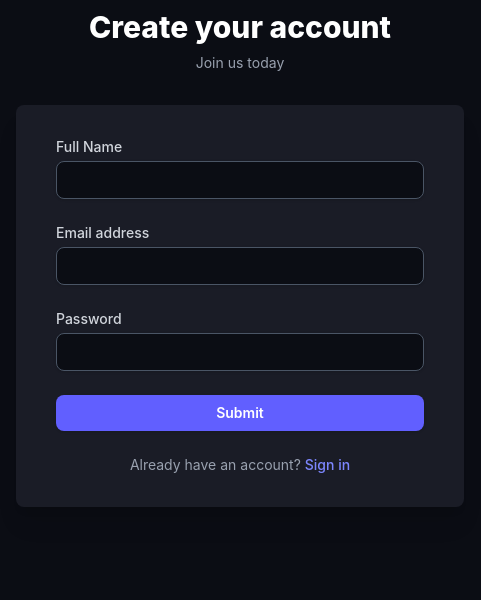
Test: UserRegistrationForm Component › displays error message when registration fails
In the field labelled "Full Name": (240, 180) [56,161,424,199], type "Bob Smith"
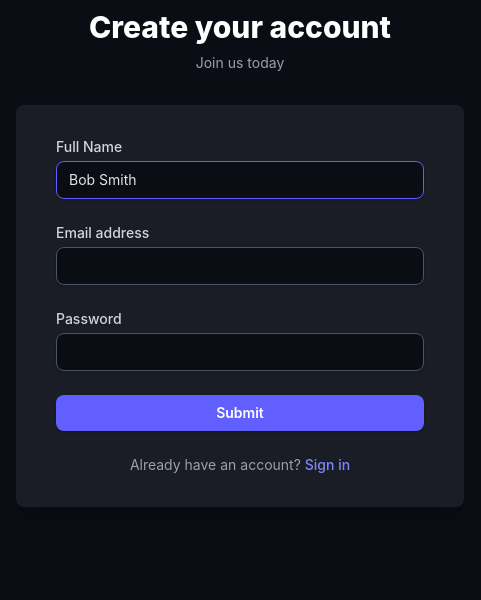
In the field labelled "Email address": (240, 266) [56,247,424,285], type "bob@example.com"
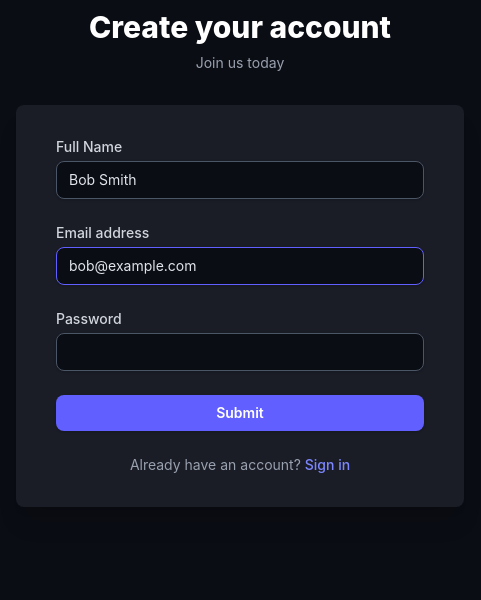
In the password field labelled "Password": (240, 352) [56,333,424,371], type "Password123!"
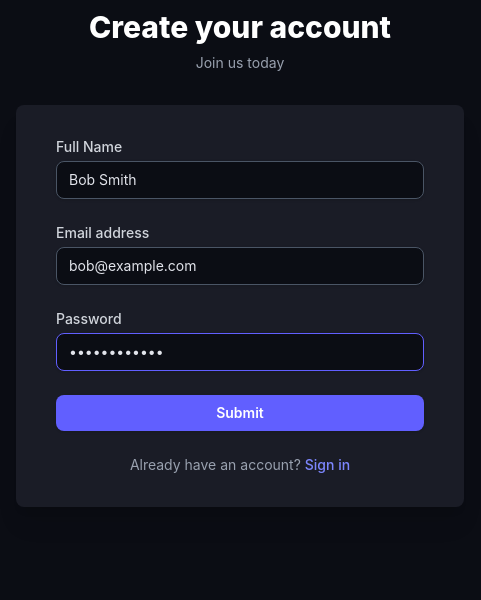
Click the button "Submit": (240, 413) [56,395,424,431]
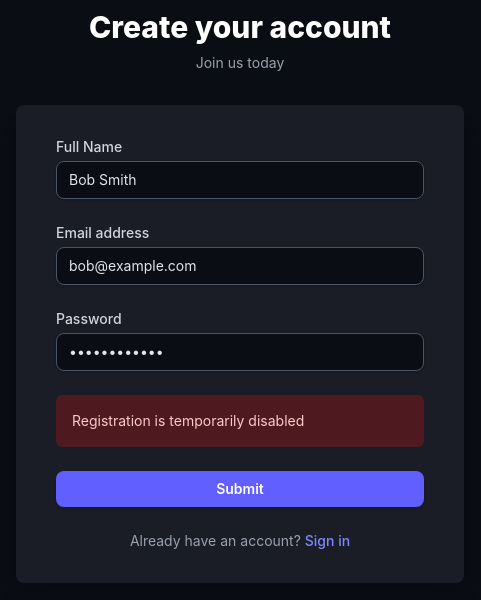
Expected: the text "Registration is temporarily disabled" is shown, [72,412,304,429]
